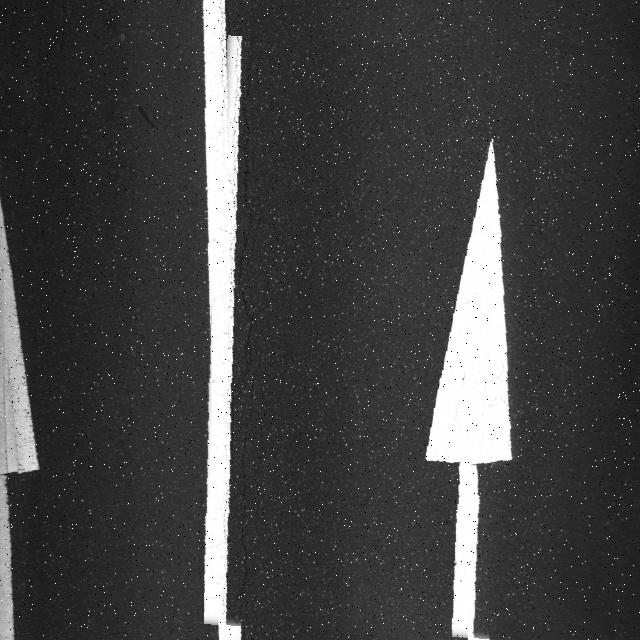forward: (204, 40, 640, 640)
